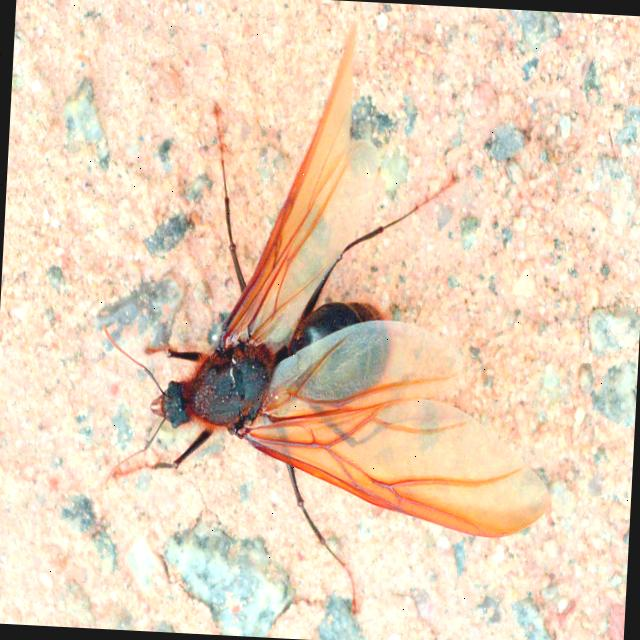Alive-Male-Alate: (86, 10, 576, 628)
